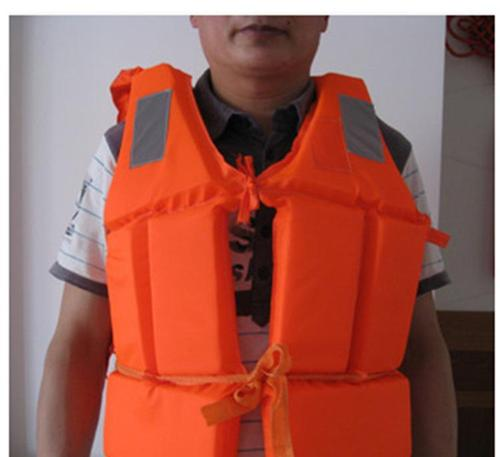reflective_clothes: (80, 15, 427, 455)
